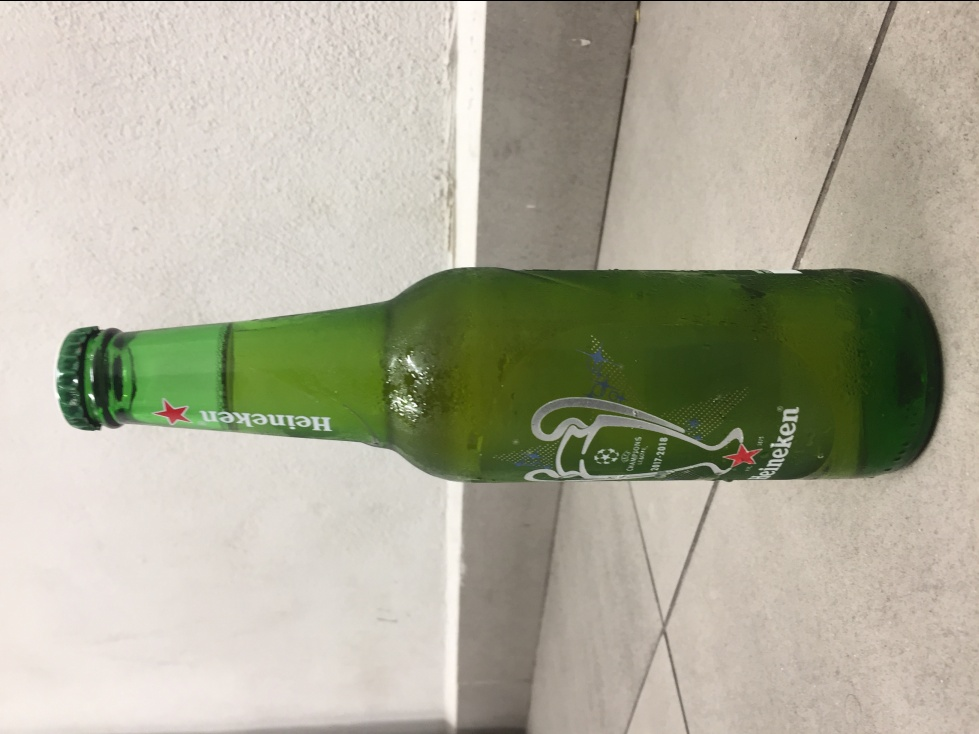heineken: (54, 267, 946, 485)
